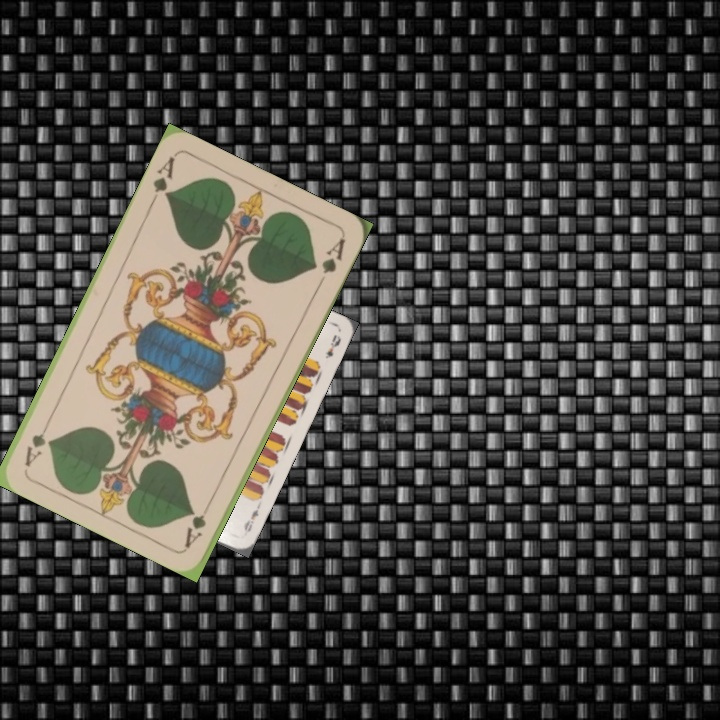E9: (240, 500, 263, 539)
GA: (181, 494, 216, 550), (146, 152, 178, 208)
